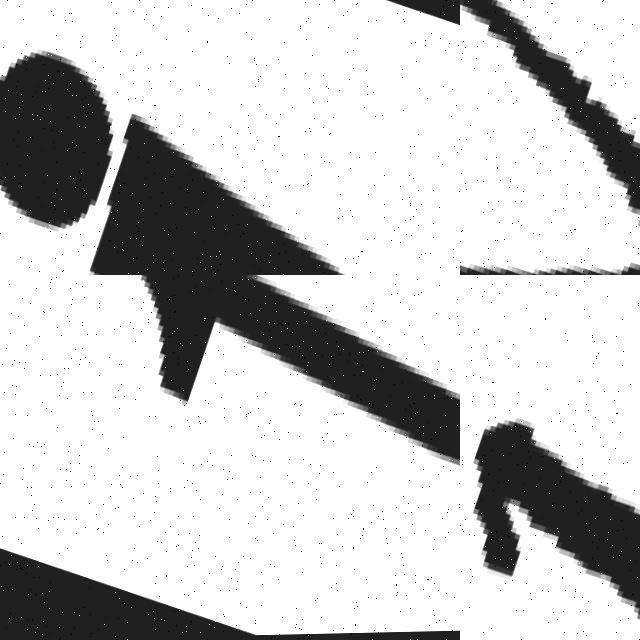J: (0, 23, 460, 275), (460, 305, 640, 640)
T: (12, 275, 460, 536)
V: (460, 0, 640, 275)
